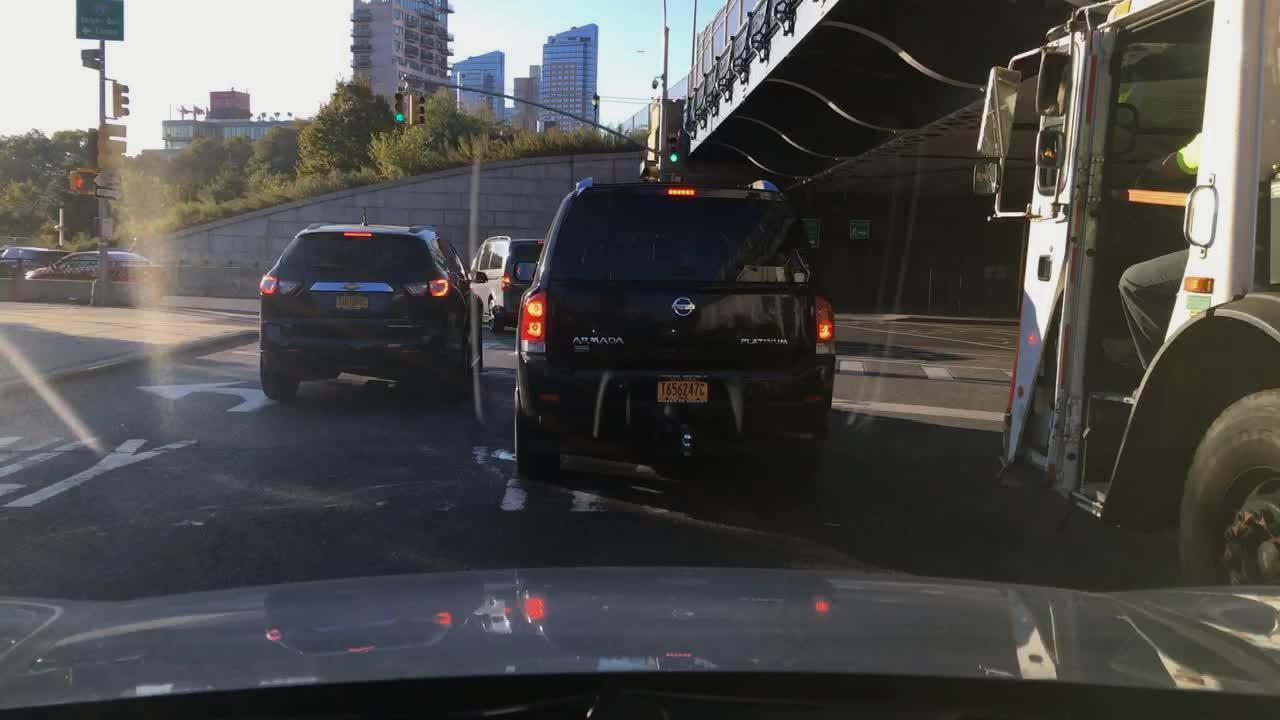Nissan: (666, 289, 701, 324)
